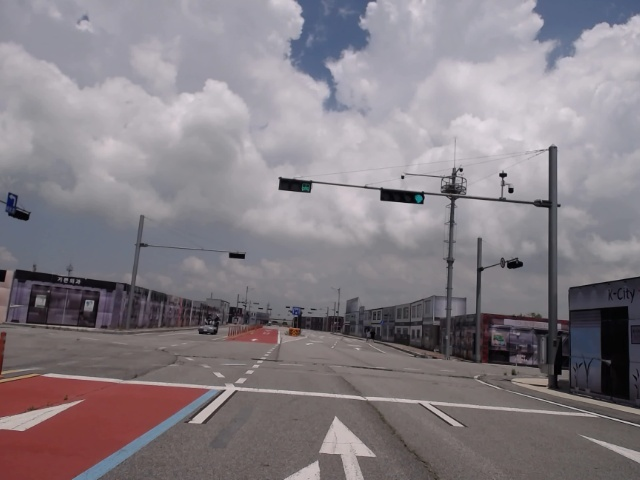straight_green_4: (381, 189, 423, 203)
